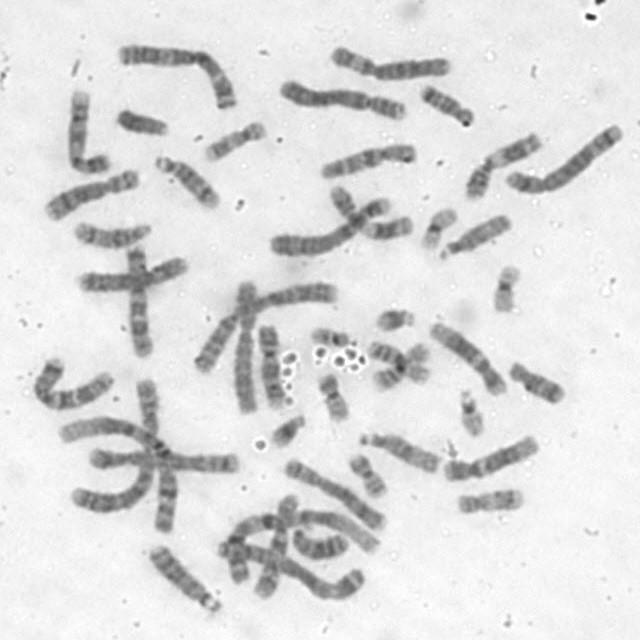A1: (60, 407, 181, 537), (224, 507, 384, 588)
A2: (191, 281, 340, 376), (67, 377, 163, 517)
A3: (213, 536, 368, 606), (111, 42, 237, 111)
B4: (268, 191, 393, 264), (276, 76, 411, 123)
B5: (502, 122, 626, 198), (84, 444, 245, 477)
C10: (248, 491, 304, 602), (314, 138, 420, 184)
C11: (454, 127, 547, 206), (324, 183, 417, 240)
C12: (426, 319, 510, 394), (439, 432, 541, 485)
C6: (323, 45, 458, 82), (231, 275, 262, 417)
C7: (27, 354, 117, 415), (120, 240, 156, 365)
C8: (279, 459, 388, 531), (41, 166, 139, 222)
C9: (59, 86, 114, 180), (256, 322, 291, 405)
D13: (142, 539, 225, 617), (286, 524, 349, 562)
D14: (150, 152, 224, 209), (72, 217, 155, 252)
D15: (356, 428, 445, 476), (435, 210, 516, 261)
E16: (367, 339, 434, 396), (364, 337, 432, 387)
E17: (199, 117, 269, 164), (450, 483, 530, 520)
E18: (505, 357, 569, 407), (414, 80, 477, 128)
F19: (487, 259, 523, 318), (416, 206, 457, 250)
F20: (342, 449, 393, 499), (313, 371, 352, 422)
G21: (264, 411, 308, 452), (371, 304, 420, 335)
G22: (456, 387, 487, 439), (307, 324, 352, 349)
X: (70, 255, 193, 295)
Y: (113, 107, 168, 137)
